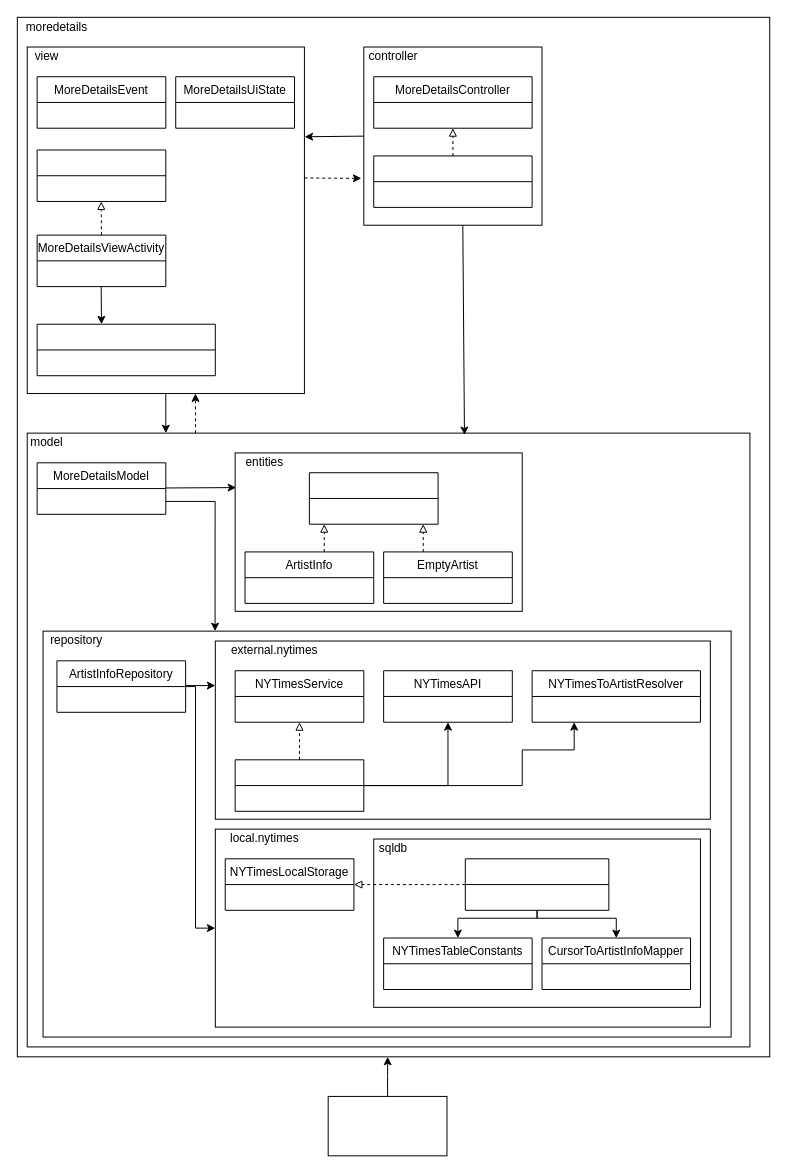
Image size: 787x1173. Some labels were removed from this diagram. Here are the shapes that lost their labels. From the top down, the centre of each, then its label:
pixel 101 175: MoreDetailsView
pixel 452 181: MoreDetailsControllerImpl
pixel 125 349: ArtistInfoDescriptionHelperImpl
pixel 373 498: Artist
pixel 299 785: NYTimesServiceImpl
pixel 536 884: NYTimesLocalStorageImpl
pixel 387 1125: home
